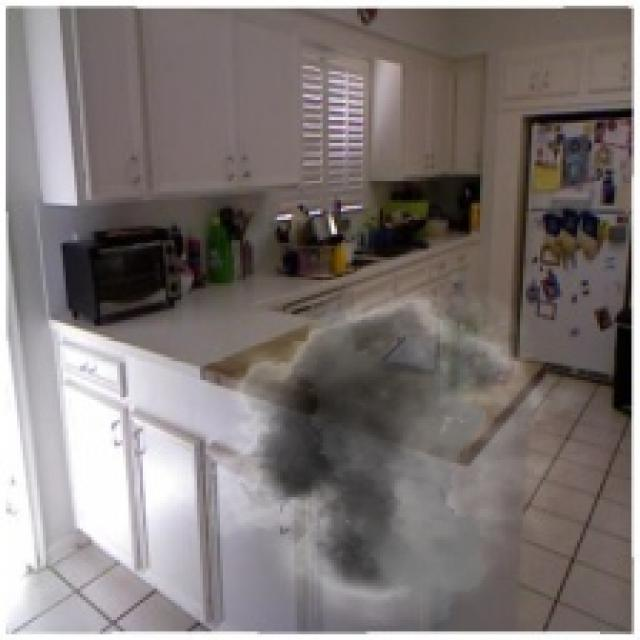smoke: (188, 271, 592, 626)
